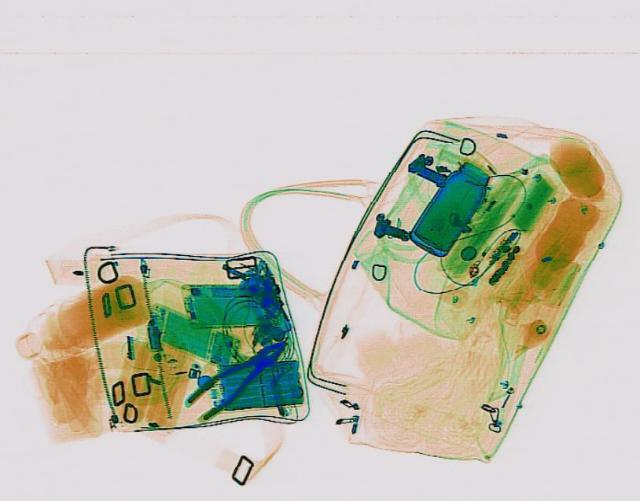Pliers: (176, 328, 302, 421)
